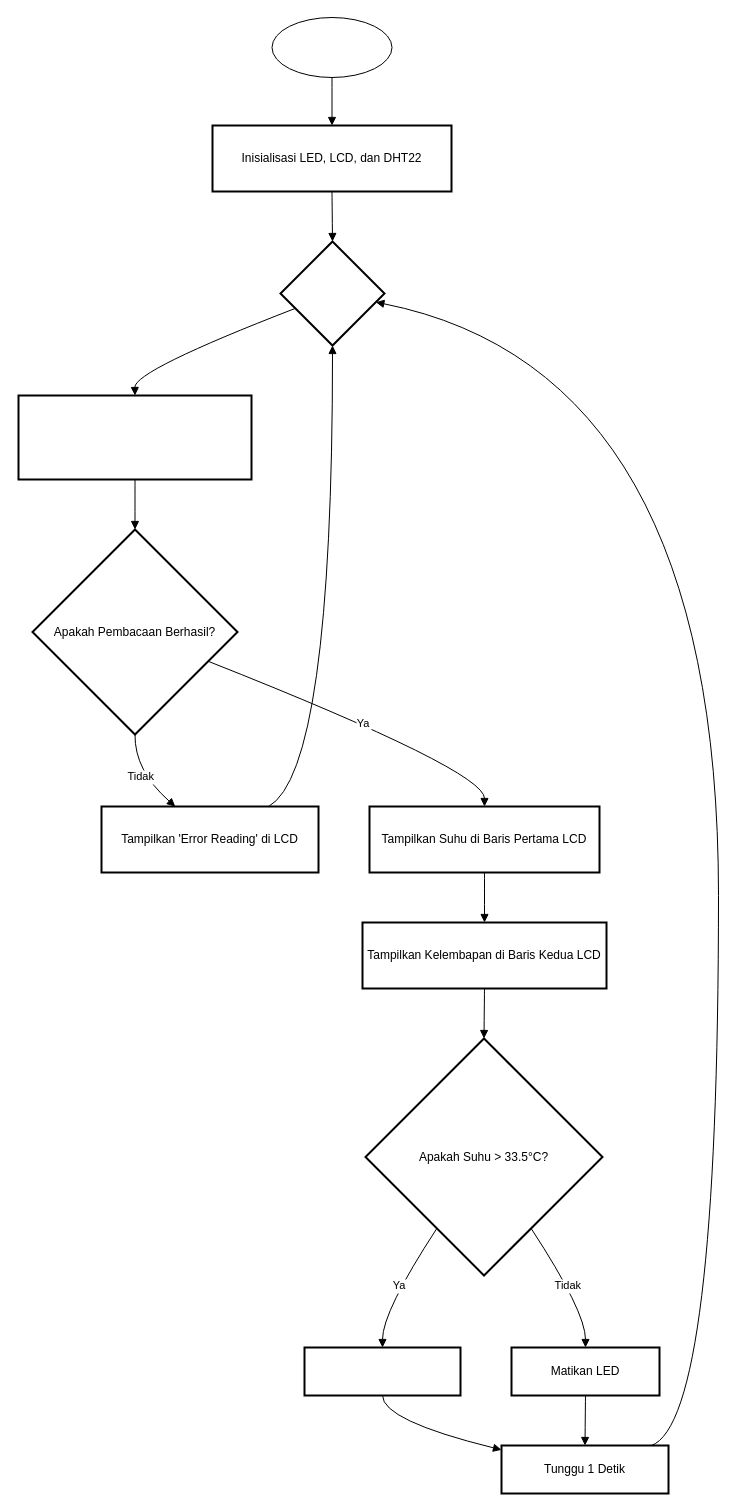
This 736x1512 diagram has some shape labels left out. The centre of each missing label's shape, as x and y in pixels:
"Looping" goes at pixel 332 293.
"Membaca Suhu dan Kelembapan dari Sensor DHT22" goes at pixel 134 437.
"Mulai" goes at pixel 331 47.
"Nyalakan LED" goes at pixel 382 1371.
